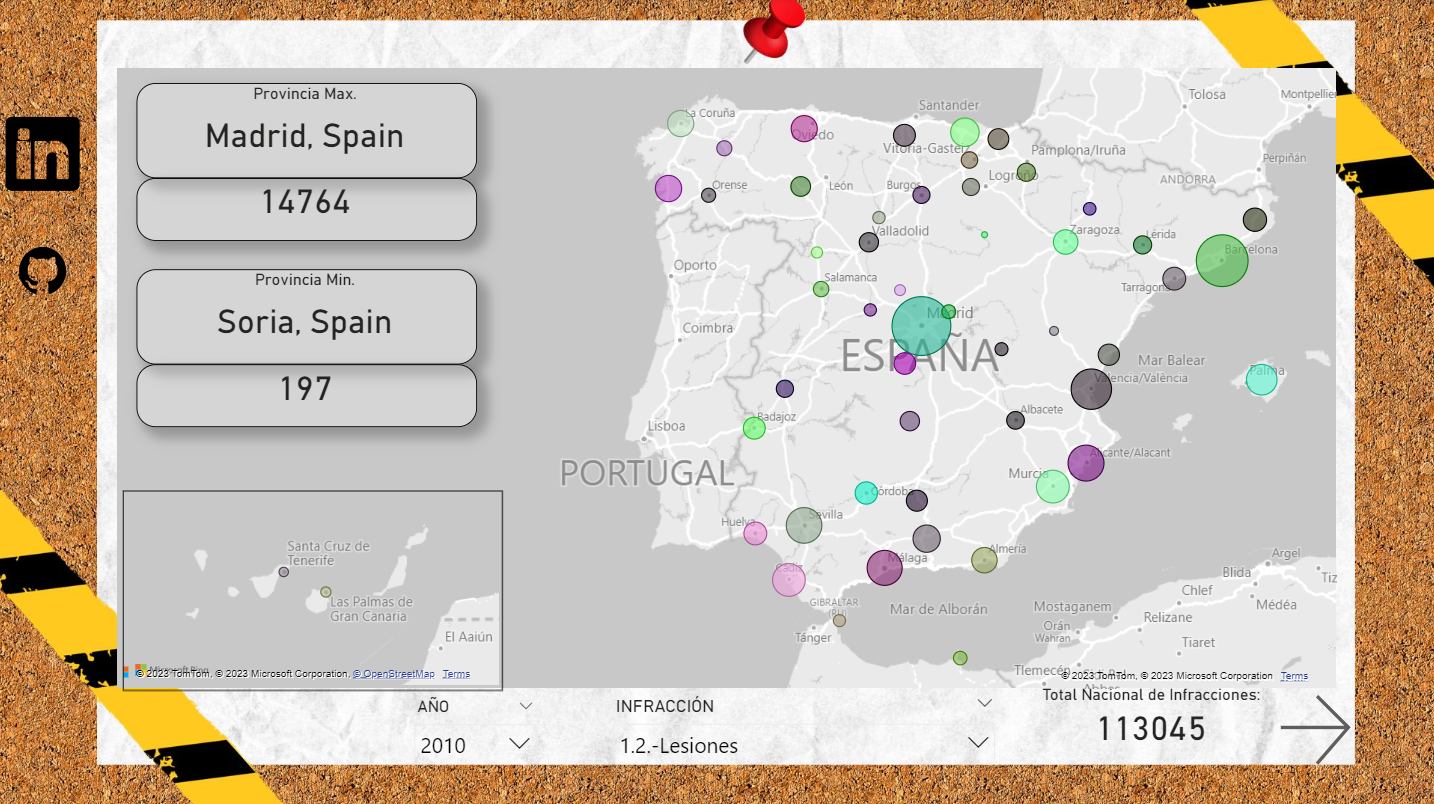

Layout of this report page (visuals, bound fields, positions):
{"tool":"powerbi","page":{"name":"MAPA","canvas":[1280,720],"ordinal":0},"visuals":[{"type":"map","fields":{"Category":["finish.name"],"Series":["finish.values"],"Size":["Avg(finish.values)"]},"box":[100.1,57.6,1095.5,562.1],"z":0},{"type":"slicer","fields":{"Values":["finish.year"]},"box":[359.4,617.5,129,59.1],"z":1000},{"type":"slicer","fields":{"Values":["finish.infringement"]},"box":[536.7,616.3,360.6,61.5],"z":2000},{"type":"map","fields":{"Category":["finish.name"],"Series":["finish.values"],"Size":["Avg(finish.values)"]},"box":[109.7,438.7,338.6,178.2],"z":3000},{"type":"card","title":"Provincia Max.","fields":{"Values":["finish.Nombre Provincia Máxima Infracción"]},"box":[122,75.4,303,85],"z":4000},{"type":"card","title":"Provincia Max.","fields":{"Values":["finish.Valor Máximo de Infracción"]},"box":[122,160.4,303,56.2],"z":5000},{"type":"card","title":"Provincia Min.","fields":{"Values":["finish.Nombre Provincia Minima Infracción"]},"box":[122,241.3,303,85],"z":6000},{"type":"card","title":"Provincia Max.","fields":{"Values":["finish.Valor Minimo de Infracción"]},"box":[122,326.3,303,56.2],"z":7000},{"type":"card","title":"Total Nacional de Infracciones:","fields":{"Values":["Sum(finish.values)"]},"box":[906.9,611.5,242.4,72.4],"z":8000},{"type":"actionButton","box":[1132.5,612.9,100.1,76.8],"z":9000},{"type":"image","box":[0,98.7,78.1,79.5],"z":10000},{"type":"image","box":[0,186.5,78.1,111.1],"z":11000}]}

Visuals, with their boxes in screenshot pixels (x1, y1, x2, y2), scaled from the page's 1280x720 canvas onto the 1434x804 screenshot:
map - finish.name x finish.values: l=112, t=64, r=1339, b=692
slicer - finish.year: l=403, t=690, r=547, b=756
slicer - finish.infringement: l=601, t=688, r=1005, b=757
map - finish.name x finish.values: l=123, t=490, r=502, b=689
"Provincia Max." card: l=137, t=84, r=476, b=179
"Provincia Max." card: l=137, t=179, r=476, b=242
"Provincia Min." card: l=137, t=269, r=476, b=364
"Provincia Max." card: l=137, t=364, r=476, b=427
"Total Nacional de Infracciones:" card: l=1016, t=683, r=1288, b=764
actionButton: l=1269, t=684, r=1381, b=770
image: l=0, t=110, r=87, b=199
image: l=0, t=208, r=87, b=332
